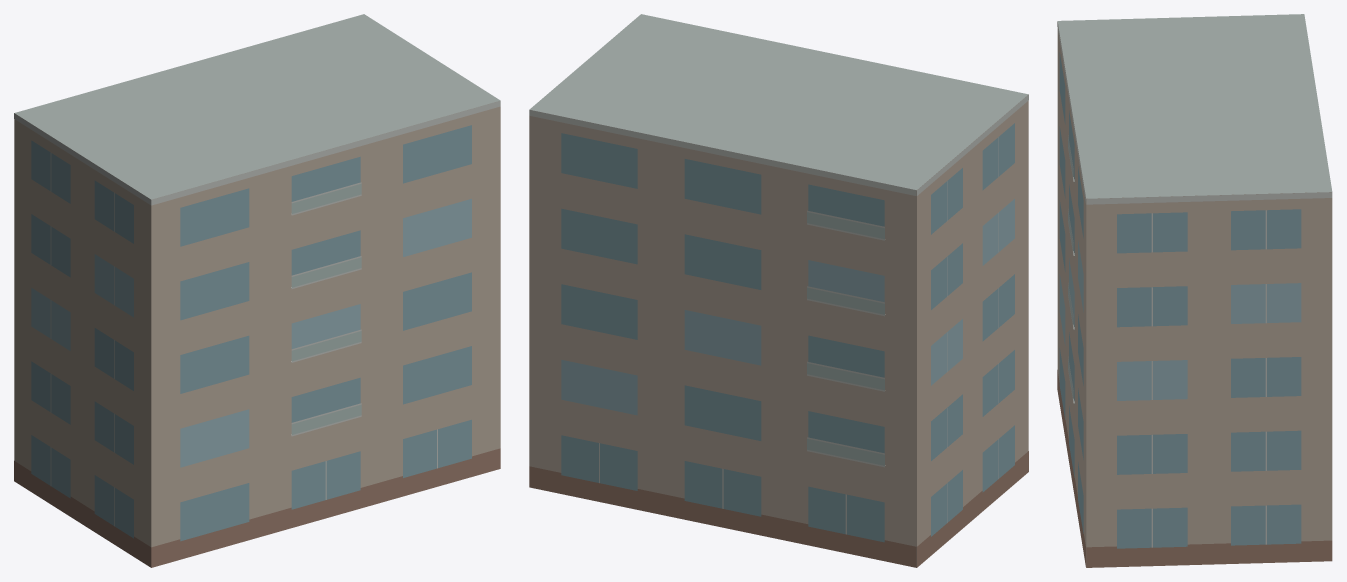
Rendered from survey-upis-32959553.glb.
The picture shows the model from 3 angles, left to right: view 1: azimuth 30°, elevation 25°; view 2: azimuth 150°, elevation 25°; view 3: azimuth 270°, elevation 25°; orthographic projection. The views are drawn at different scales.
Parts seen in each view (by area): view 1: survey-upis-32959553.tmp; view 2: survey-upis-32959553.tmp; view 3: survey-upis-32959553.tmp.
Part boxes in pixels (left/top/right/bottom): survey-upis-32959553.tmp: left=14, top=14, right=500, bottom=567; survey-upis-32959553.tmp: left=529, top=14, right=1028, bottom=567; survey-upis-32959553.tmp: left=1057, top=14, right=1332, bottom=567.
Size of the model in its own units: 16.38 by 15.25 by 10.3.
